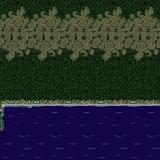Interaction: (0, 90, 160, 114), (0, 113, 10, 135)
Slow: (0, 106, 160, 160)
